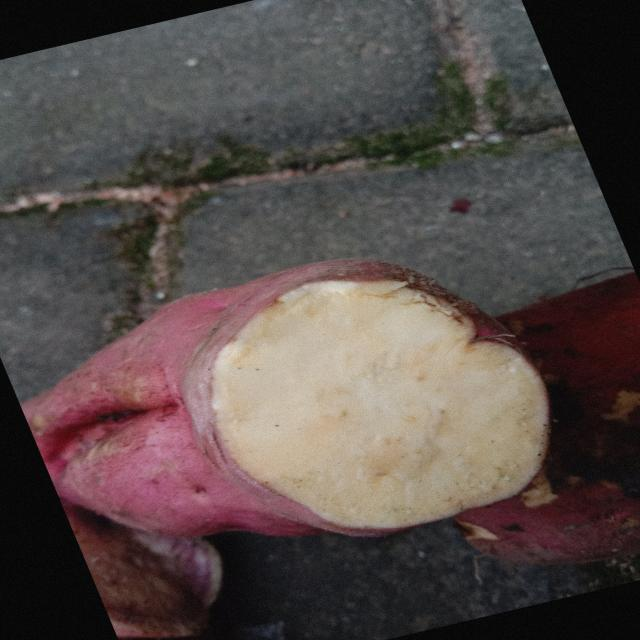Healthy Sweet Potato: (212, 280, 548, 529)
